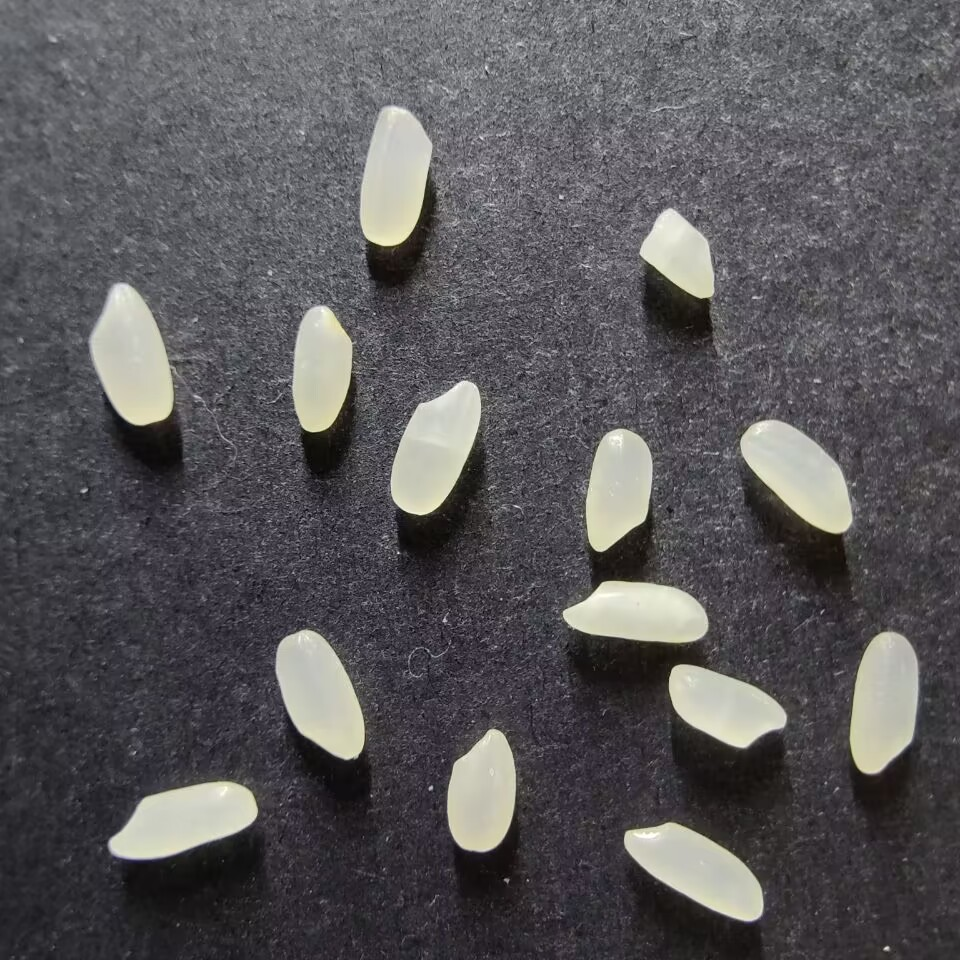broken: (639, 208, 715, 299)
rice: (623, 822, 764, 922), (739, 419, 852, 534), (389, 379, 481, 515), (88, 282, 173, 426), (107, 781, 258, 861), (274, 629, 365, 760), (358, 105, 431, 246), (848, 631, 919, 775), (667, 664, 787, 748), (562, 581, 709, 643), (446, 727, 516, 852), (585, 428, 652, 552), (291, 305, 353, 433)
